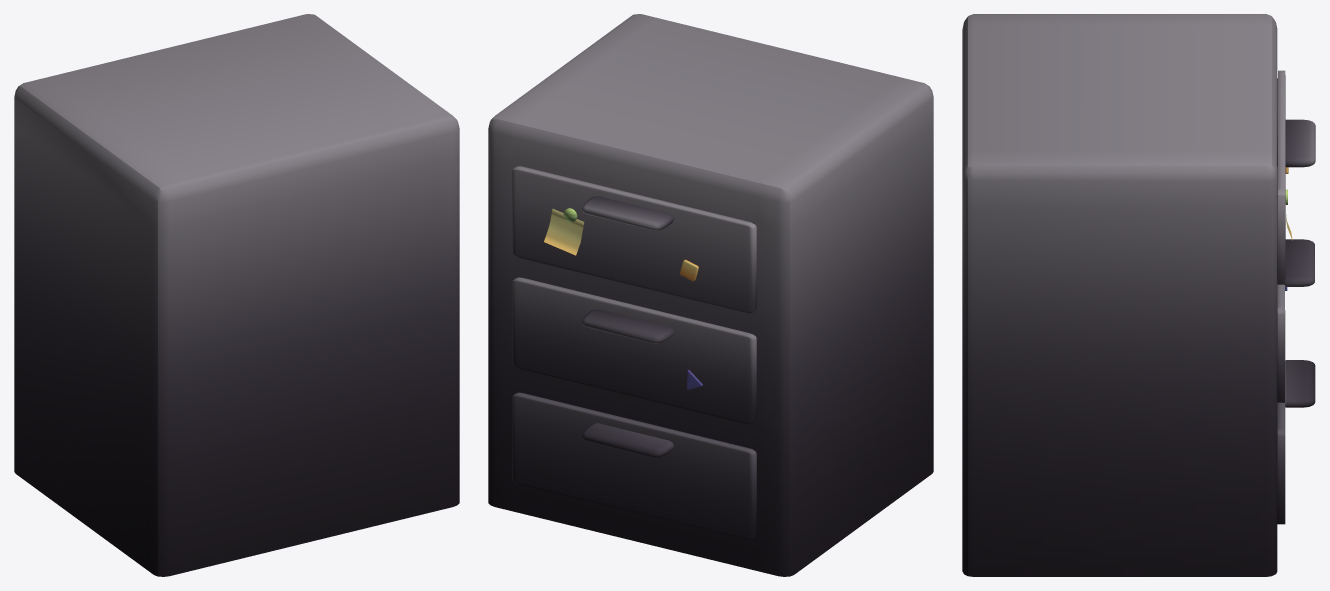
The model's file is mesh_cabinet_main_menu_001.fbx.
3 views of the same model, side by side, from view 1: azimuth 30°, elevation 25°; view 2: azimuth 150°, elevation 25°; view 3: azimuth 270°, elevation 25° (orthographic). The views are drawn at different scales.
Visible parts, largest first — view 1: cabinet itself; view 2: cabinet itself, bottom_drawer, middle_drawer, top drawer, post it; view 3: cabinet itself, top drawer, bottom_drawer, middle_drawer.
Boxes of the visible parts, x1=… form: cabinet itself: x1=14, y1=14, x2=459, y2=576; cabinet itself: x1=488, y1=14, x2=933, y2=576; bottom_drawer: x1=512, y1=392, x2=756, y2=539; middle_drawer: x1=512, y1=277, x2=756, y2=424; top drawer: x1=512, y1=166, x2=756, y2=313; post it: x1=544, y1=209, x2=584, y2=255; cabinet itself: x1=962, y1=14, x2=1277, y2=576; top drawer: x1=1277, y1=70, x2=1315, y2=284; bottom_drawer: x1=1277, y1=310, x2=1315, y2=524; middle_drawer: x1=1277, y1=239, x2=1314, y2=402.
Size of the model in its own units: 114 by 138 by 108.
